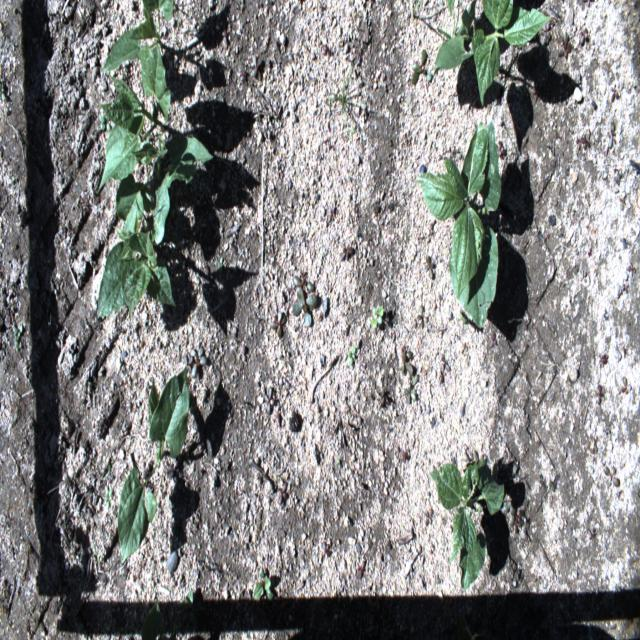crop: (416, 121, 502, 328), (117, 365, 190, 564), (96, 43, 171, 195), (98, 179, 176, 319), (429, 457, 505, 590), (114, 134, 214, 222), (99, 0, 174, 73), (141, 599, 176, 640), (446, 0, 454, 20)
weed: (434, 0, 551, 107), (326, 64, 365, 142), (291, 285, 320, 329), (436, 0, 461, 45), (409, 47, 434, 86), (501, 494, 525, 532), (188, 342, 208, 382), (252, 567, 274, 603), (179, 590, 199, 627), (292, 268, 316, 294), (269, 310, 287, 339), (603, 462, 621, 490), (400, 344, 414, 378), (556, 30, 572, 58), (262, 385, 275, 417), (250, 53, 264, 82), (401, 382, 418, 405), (471, 448, 487, 471), (400, 351, 414, 377), (370, 304, 384, 329), (220, 22, 232, 51), (182, 351, 195, 376), (416, 304, 429, 329), (492, 140, 508, 160), (424, 253, 435, 282), (337, 245, 354, 262), (99, 110, 112, 132), (541, 20, 552, 46), (578, 134, 593, 153), (608, 119, 617, 149), (408, 373, 419, 397), (356, 558, 367, 580), (278, 480, 288, 504), (346, 344, 356, 368), (578, 26, 590, 46), (104, 485, 113, 511), (423, 507, 434, 528), (440, 353, 451, 373), (609, 82, 620, 102), (621, 375, 631, 397), (488, 331, 499, 351), (400, 448, 412, 466), (321, 539, 332, 558), (595, 384, 604, 406), (476, 205, 490, 219), (579, 267, 589, 286), (448, 149, 463, 161), (92, 541, 100, 562), (618, 190, 626, 211), (322, 43, 332, 58), (598, 353, 609, 365), (412, 0, 418, 18), (429, 218, 437, 230), (440, 363, 445, 382), (287, 283, 296, 293), (274, 475, 280, 486), (336, 458, 340, 470)
